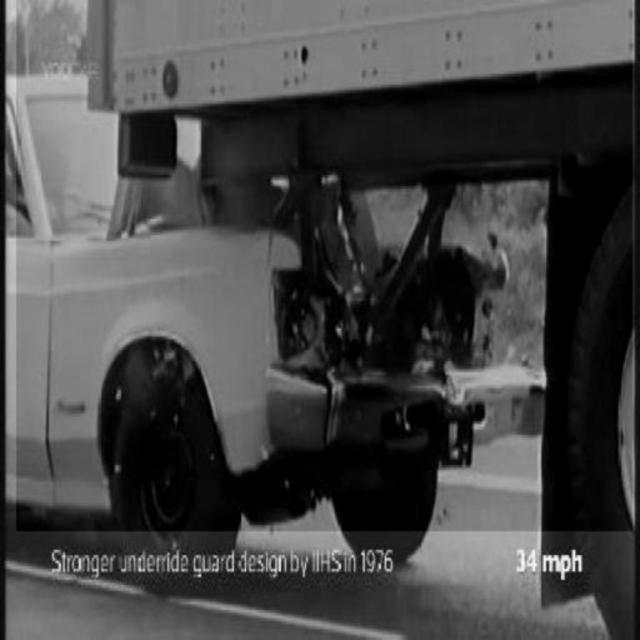accident: (17, 1, 633, 532)
